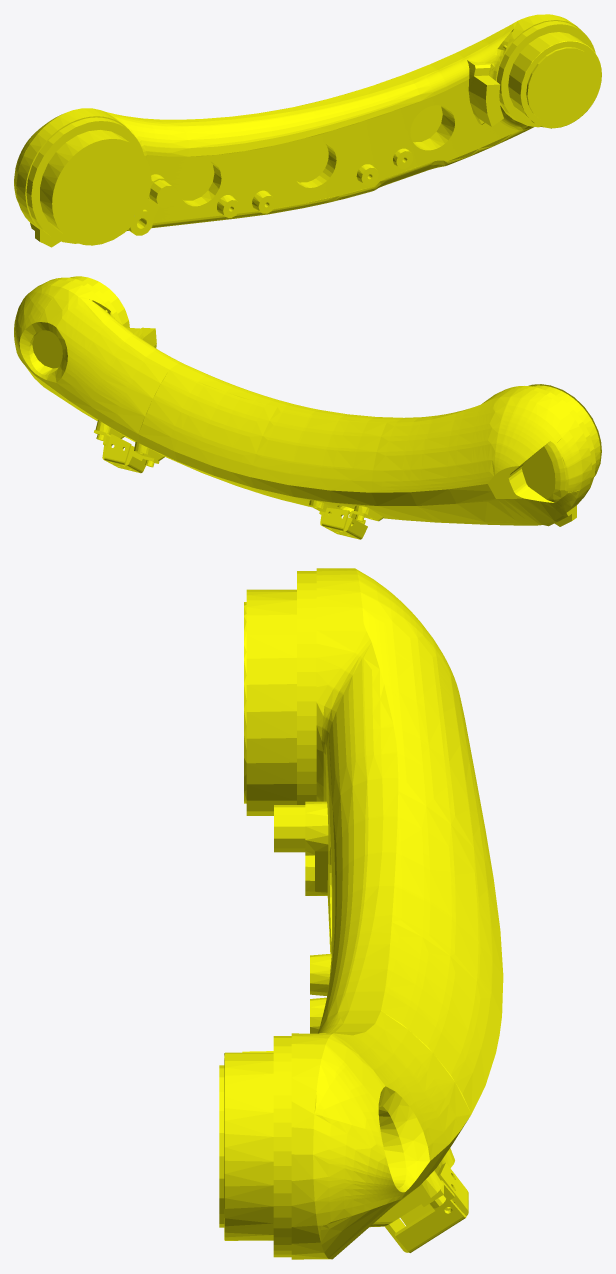
The picture shows the model from 3 angles, top to bottom: view 1: azimuth 30°, elevation 25°; view 2: azimuth 150°, elevation 25°; view 3: azimuth 270°, elevation 25°; orthographic projection. The views are drawn at different scales.
Visible parts, largest first — view 1: node; view 2: node; view 3: node.
Part boxes in pixels (x1=…): node: x1=14, y1=14, x2=601, y2=247; node: x1=14, y1=276, x2=601, y2=539; node: x1=219, y1=568, x2=503, y2=1259.
Size of the model in its own units: 791 by 212 by 238.
